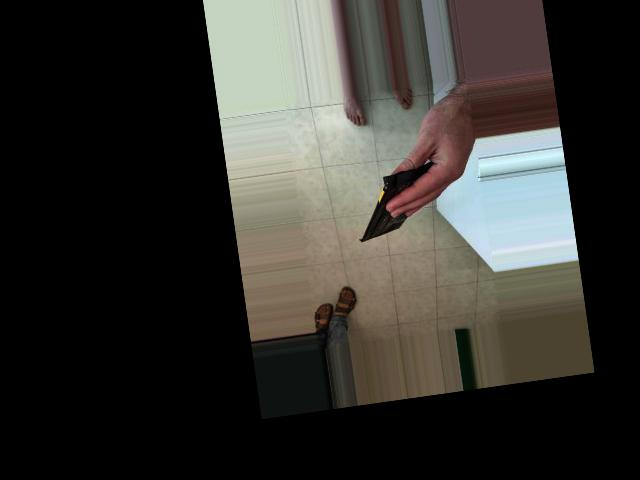chocolate: (304, 185, 399, 294)
